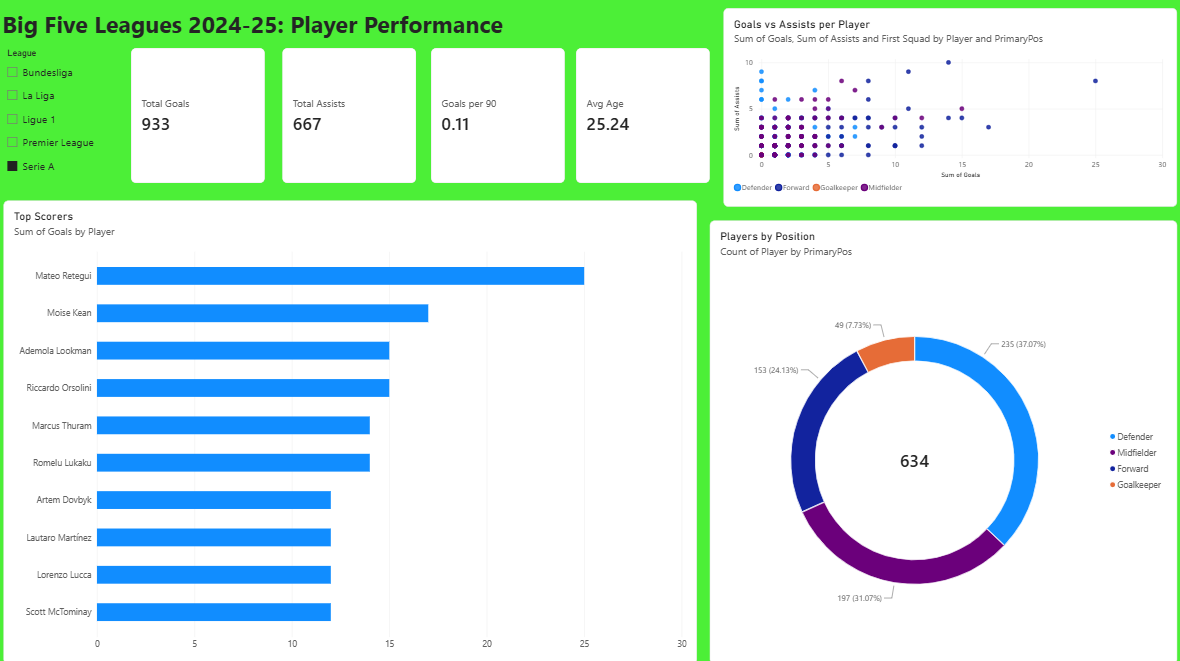

This screenshot's page, from the dashboard's own definition file:
{"tool":"powerbi","page":{"name":"Page 1","canvas":[1920,1080],"ordinal":0},"visuals":[{"type":"cardVisual","fields":{"Data":["players_clean.Total Goals"]},"box":[217.9,80.7,216.1,218.2],"z":0},{"type":"cardVisual","fields":{"Data":["players_clean.Total Assists"]},"box":[461.9,80.7,216.1,218.2],"z":1000},{"type":"cardVisual","fields":{"Data":["players_clean.Goals per 90"]},"box":[702,80.7,216.1,218.2],"z":2000},{"type":"cardVisual","fields":{"Data":["players_clean.Avg Age"]},"box":[936,80.7,216.1,218.2],"z":3000},{"type":"clusteredBarChart","title":"Top Scorers","fields":{"Category":["players_clean.Player"],"Y":["Sum(players_clean.Goals)"]},"box":[12.1,326.8,1119.6,748.4],"z":4000},{"type":"donutChart","title":"Players by Position","fields":{"Category":["players_clean.PrimaryPos"],"Y":["CountNonNull(players_clean.Player)"]},"box":[1151.8,359.1,754.4,716.1],"z":5000},{"type":"scatterChart","title":"Goals vs Assists per Player","fields":{"Category":["players_clean.Player"],"Series":["players_clean.PrimaryPos"],"X":["Sum(players_clean.Goals)"],"Y":["Sum(players_clean.Assists)"]},"box":[1174,16.1,732.3,320.7],"z":6000},{"type":"slicer","fields":{"Values":["players_clean.League"]},"box":[10.1,80.7,415.6,246.1],"z":7000},{"type":"textbox","box":[10.1,16.1,851.3,98.8],"z":8000}]}

Visuals, with their boxes in screenshot pixels (x1, y1, x2, y2), scaled from the page's 1920x1080 canvas onto the 1180x661 screenshot:
cardVisual - players_clean.Total Goals: left=134, top=49, right=267, bottom=183
cardVisual - players_clean.Total Assists: left=284, top=49, right=417, bottom=183
cardVisual - players_clean.Goals per 90: left=431, top=49, right=564, bottom=183
cardVisual - players_clean.Avg Age: left=575, top=49, right=708, bottom=183
"Top Scorers" clusteredBarChart: left=7, top=200, right=696, bottom=658
"Players by Position" donutChart: left=708, top=220, right=1172, bottom=658
"Goals vs Assists per Player" scatterChart: left=722, top=10, right=1172, bottom=206
slicer - players_clean.League: left=6, top=49, right=262, bottom=200
textbox: left=6, top=10, right=529, bottom=70
